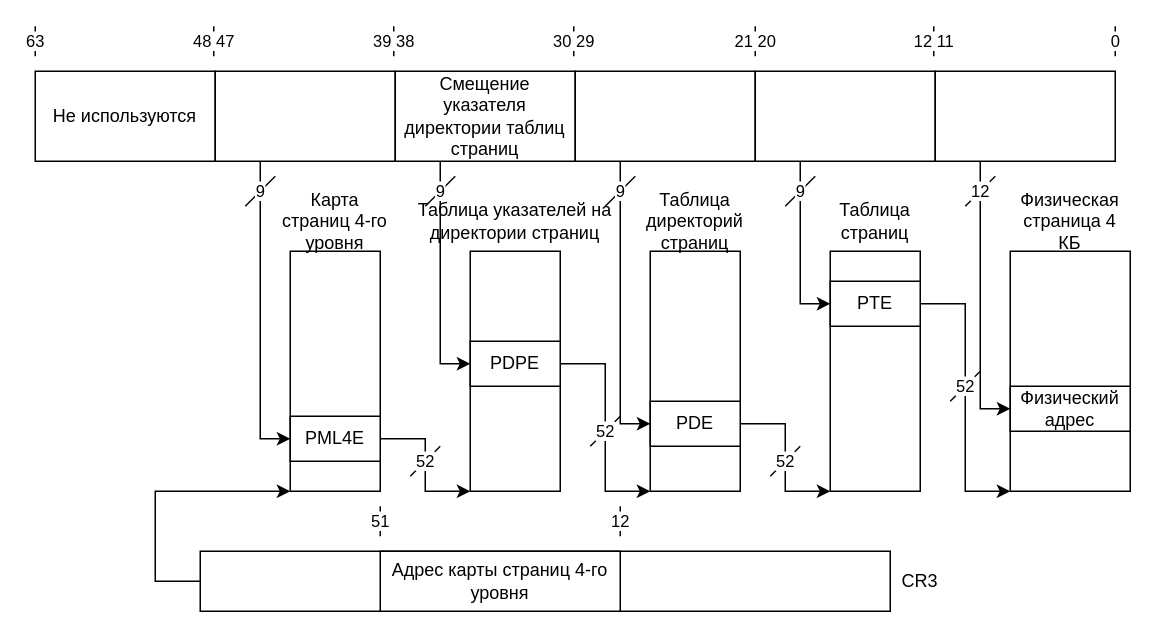
The diagram is 1157 pixels wide and 638 high, and some of its shapes have lost their labels. The box of each missing label's shape, as (x1, y1, x2, y2) in pixels:
Смещение директории таблиц страниц: (574, 70, 755, 161)
Смещение карты уровней страниц 4-го уровня (PML4): (214, 70, 395, 161)
Смещение таблицы страниц: (754, 70, 935, 161)
Смещение физической страницы: (934, 70, 1115, 161)
